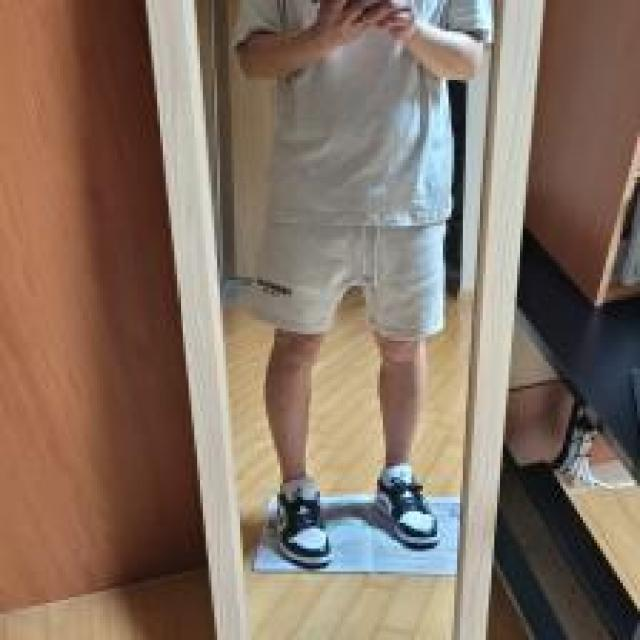shoe: (375, 466, 441, 549), (276, 478, 333, 566)
